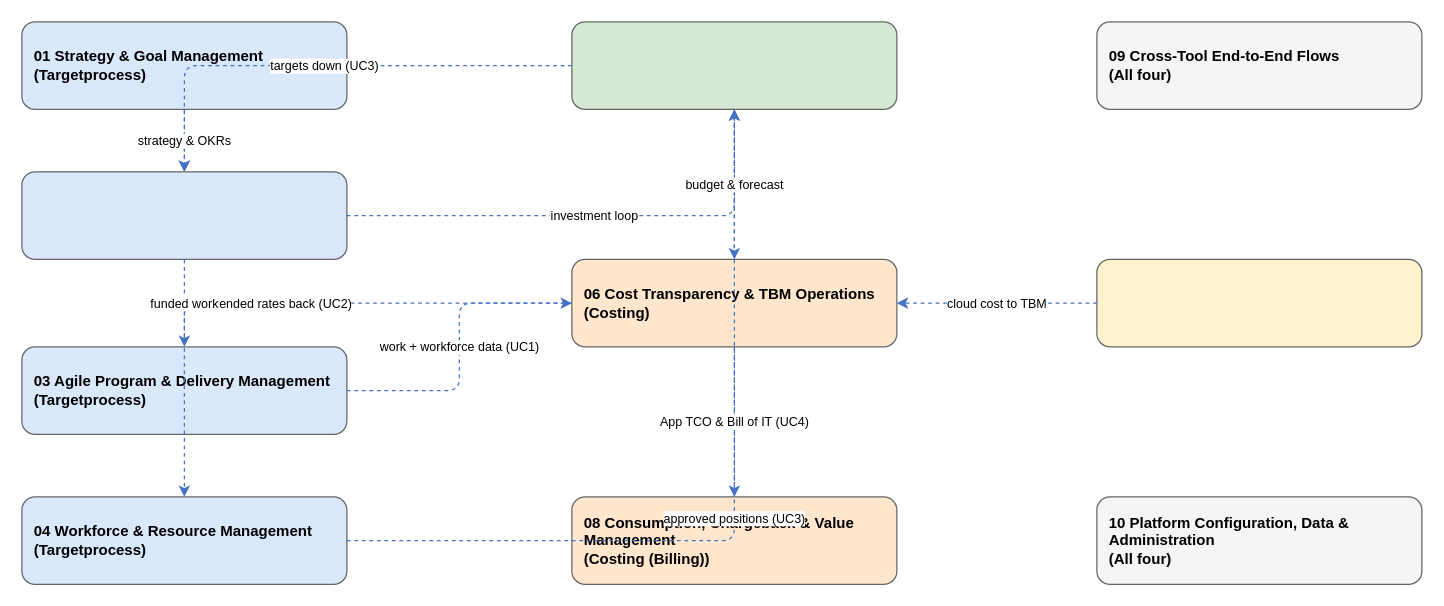
This 1444x606 diagram has some shape labels left out. The shapes that lost their labels are listed below. From the top down, each one's centre as x and y in pixels, then its label:
the point at 734,65: 05 IT Financial Planning & Budgeting (Planning)
the point at 184,215: 02 Demand & Portfolio Investment Management (Targetprocess)
the point at 1259,302: 07 Cloud Financial Management (FinOps) (Cloudability)
